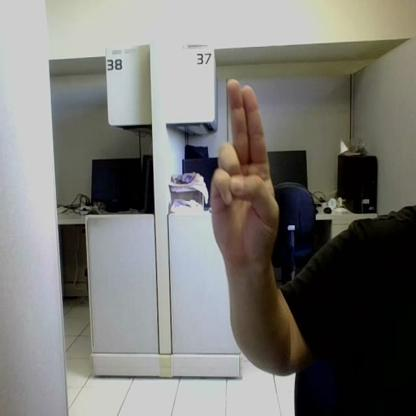U: (212, 79, 279, 258)
